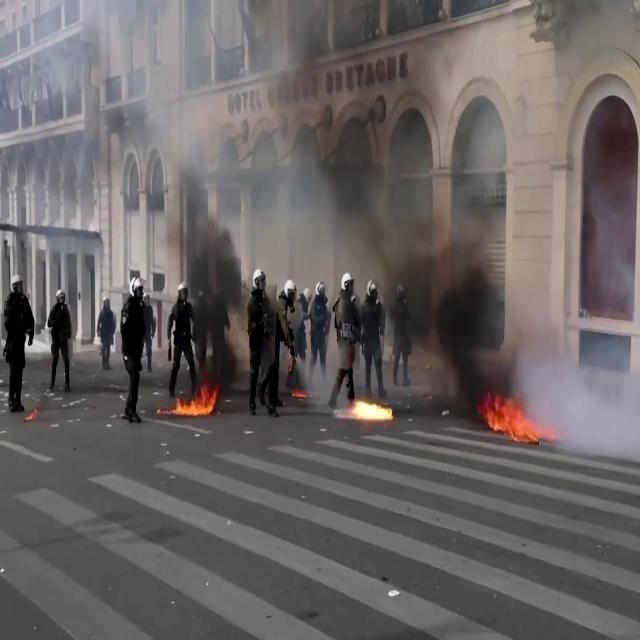Fire: (478, 391, 542, 447), (171, 376, 220, 422), (344, 390, 396, 425)
Smoke: (275, 18, 587, 398), (63, 9, 276, 362)
